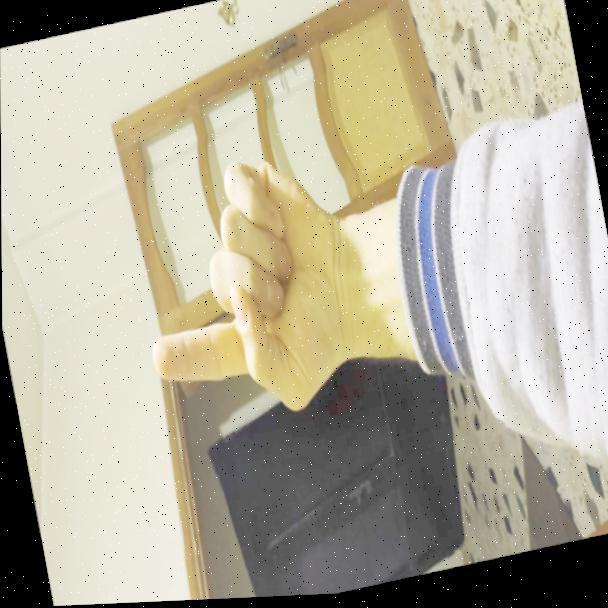one: (117, 136, 362, 445)
